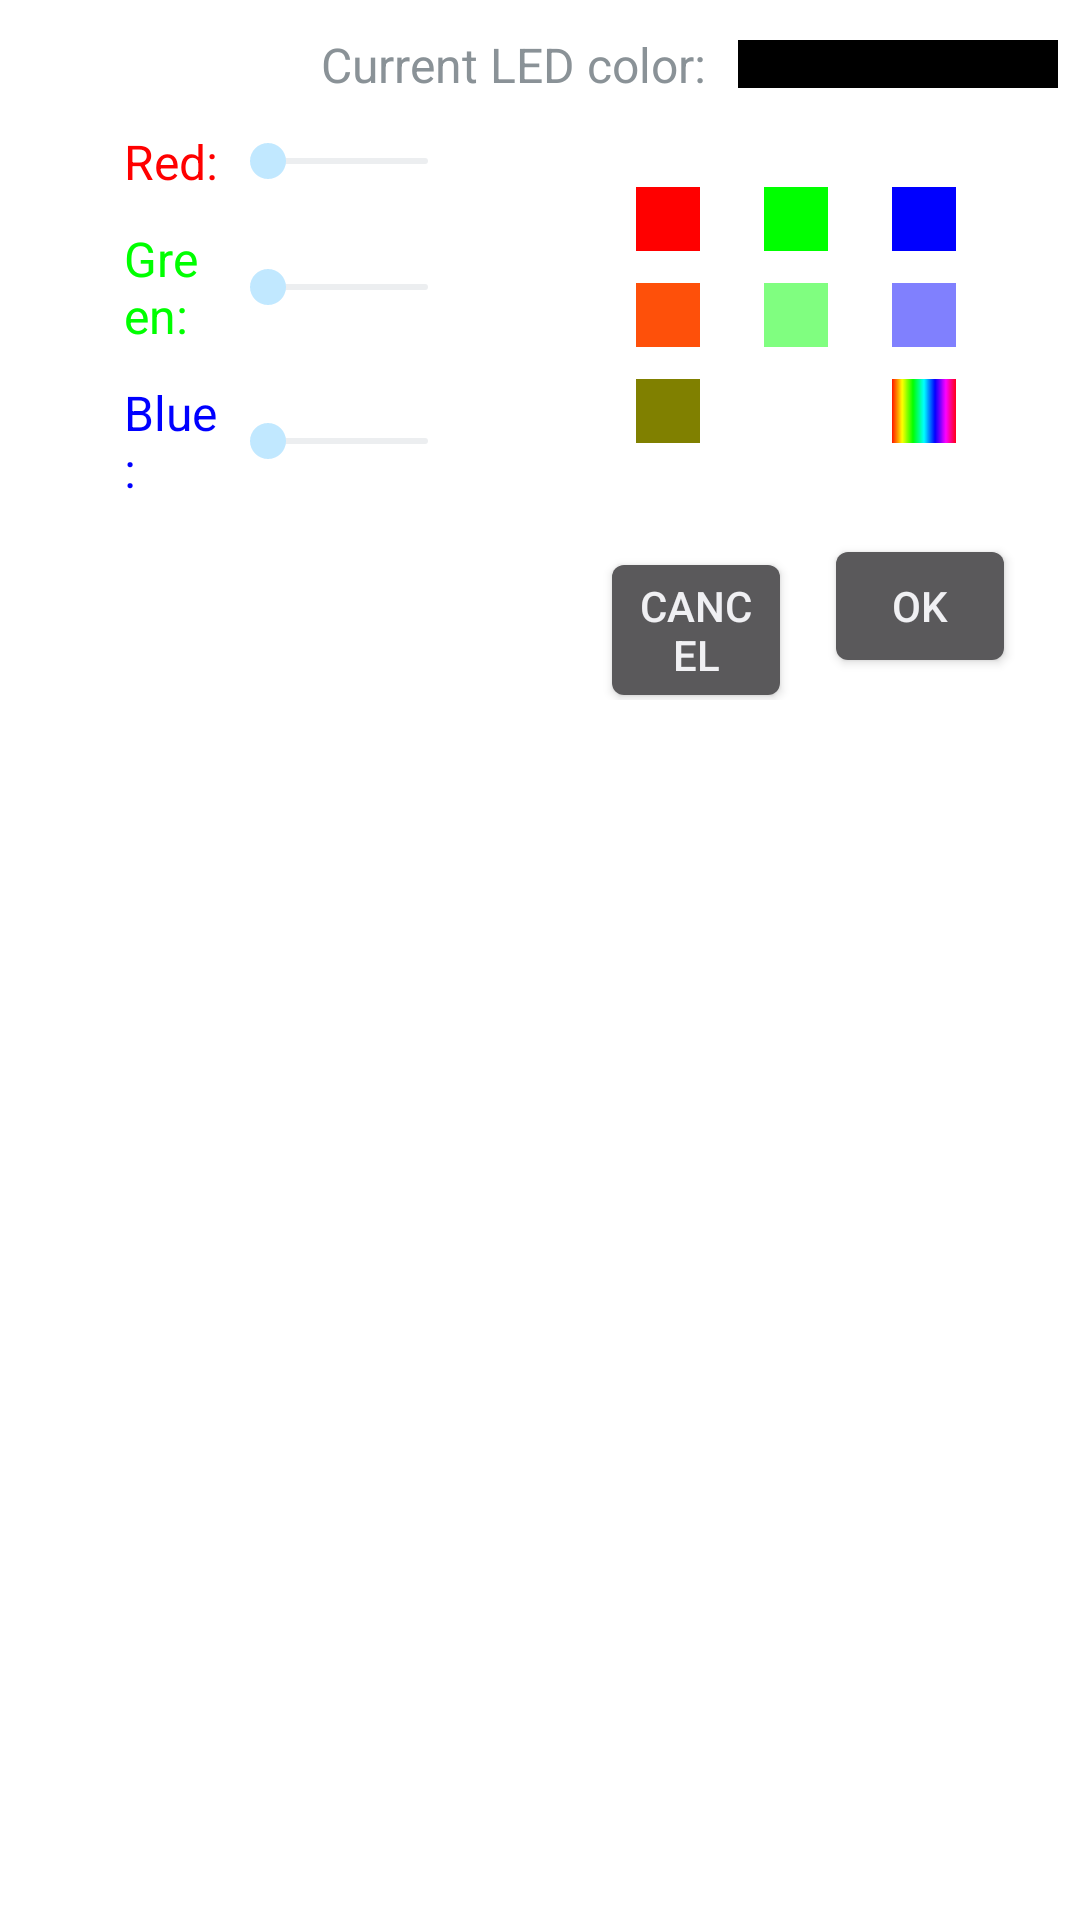

Screen size 1080px×1920px. Icon name, then its box in pixels as (x1, y1, x2, y2):
colorbar: (892, 379, 956, 443)
